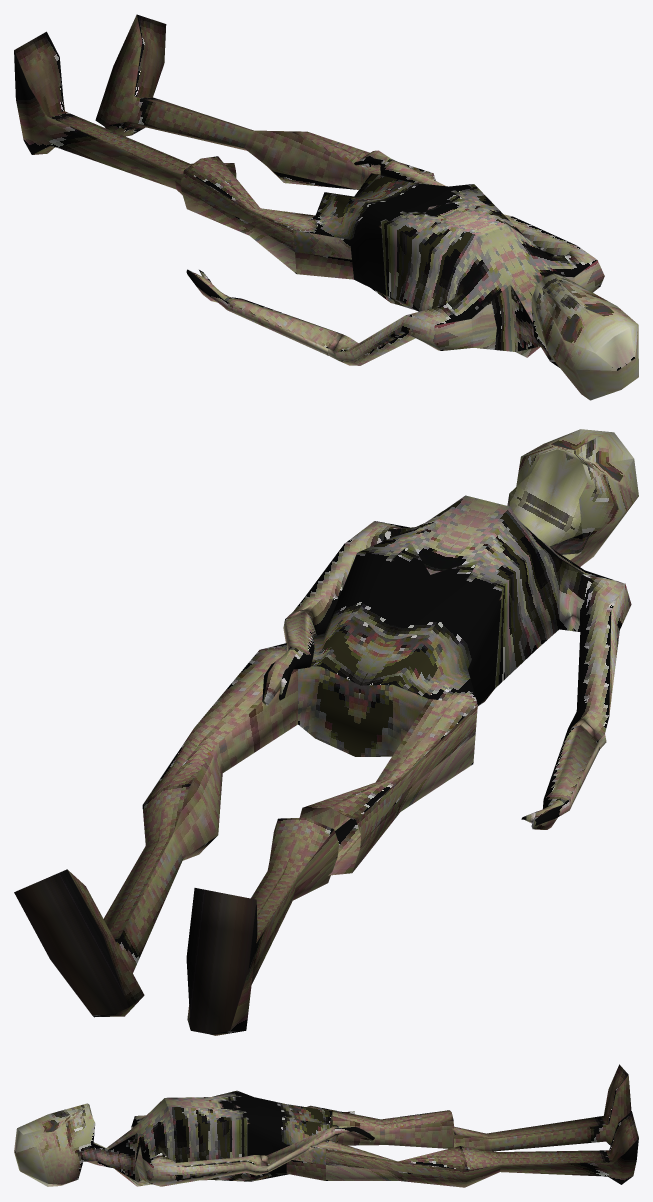
File: skeleton_corpse-2.glb
The picture shows the model from 3 angles, top to bottom: view 1: azimuth 30°, elevation 25°; view 2: azimuth 150°, elevation 25°; view 3: azimuth 270°, elevation 25°; orthographic projection. The views are drawn at different scales.
Visible parts, largest first — view 1: skeleton_corpse_2; view 2: skeleton_corpse_2; view 3: skeleton_corpse_2.
Boxes of the visible parts, x1,y1,x2,y2 form: skeleton_corpse_2: (14,14,638,400); skeleton_corpse_2: (14,429,638,1035); skeleton_corpse_2: (14,1064,638,1187).
Size of the model in its own units: 1.37 by 0.6488 by 3.86.
Materials: 1 (1 with a texture image).
